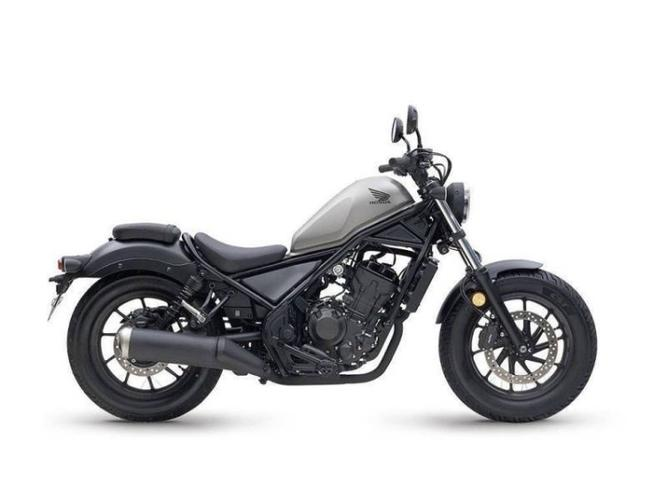摩托车: (27, 97, 634, 445)
